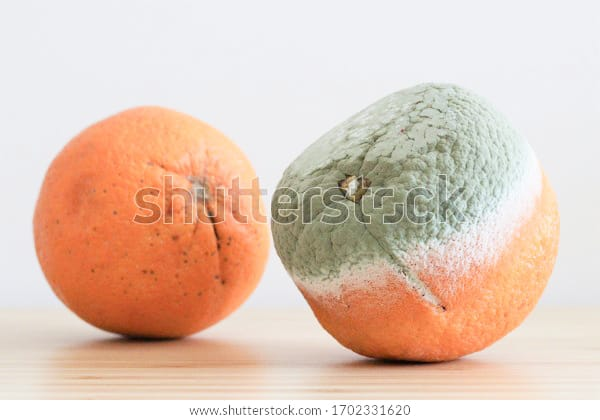Defected Orange: (270, 77, 561, 353)
Good Orange: (39, 103, 265, 351)
